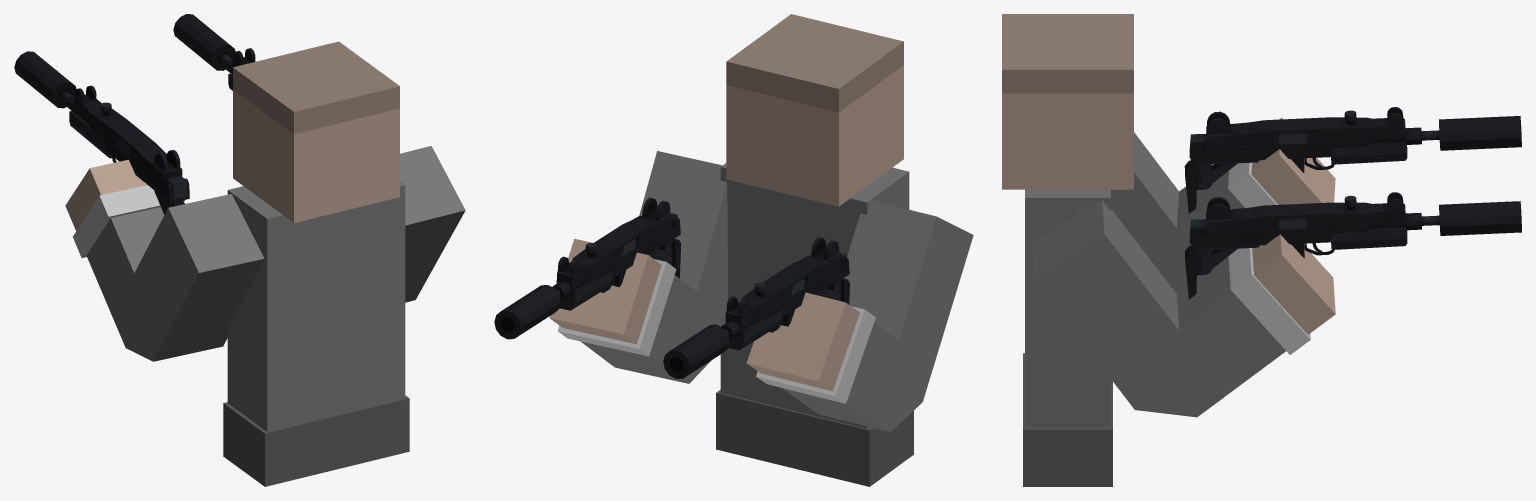
Rendered from Akimbo Uzi.gltf.
3 views of the same model, side by side, from view 1: azimuth 30°, elevation 25°; view 2: azimuth 150°, elevation 25°; view 3: azimuth 270°, elevation 25° (orthographic). The views are drawn at different scales.
Size of the model in its own units: 5.03 by 6.8 by 7.87.
2 materials, 1 textured.
